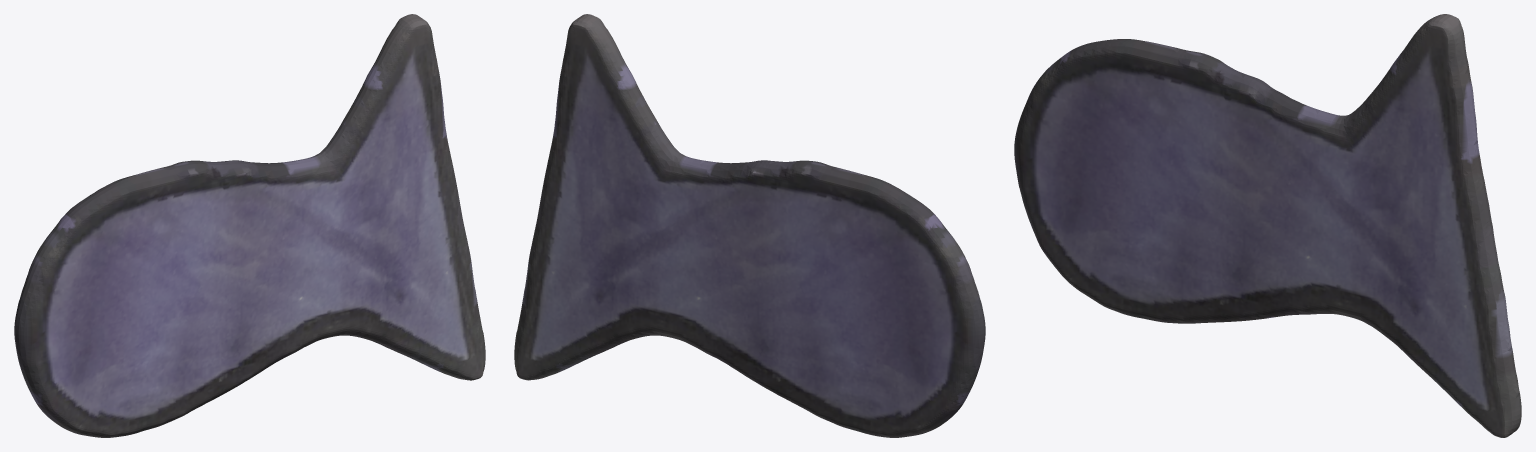
The model's file is p_mesh_fish_test_new_edit.gltf.
3 renders of one model, left to right at view 1: azimuth 30°, elevation 25°; view 2: azimuth 150°, elevation 25°; view 3: azimuth 330°, elevation 25°, orthographic. The views are drawn at different scales.
Size of the model in its own units: 0.0392 by 0.0299 by 0.002.
